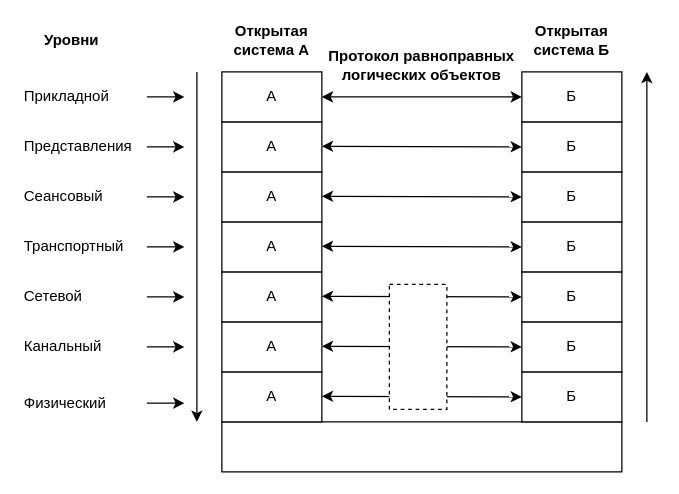
Image size: 679x494. Some labels were removed from this diagram. Here are the shapes that lost their labels. From the top down, the box of each, then its label:
(388, 283, 447, 409): ретранслятор
(221, 421, 622, 472): Физическая среда ВОС
